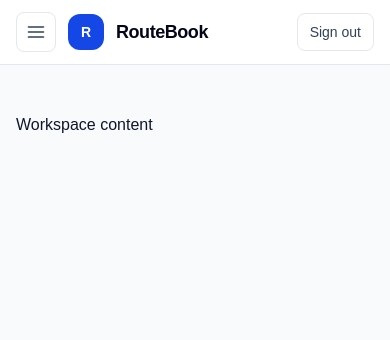
RouteBookShell › supports opening and closing the responsive navigation
Click the button named "Open navigation menu".
click(36, 32)  # box [16,12,56,52]
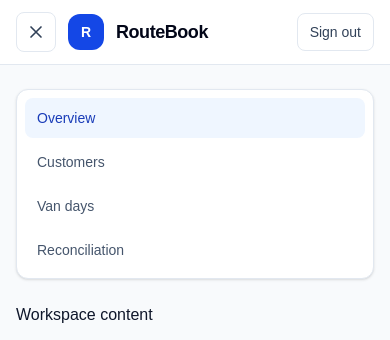
Expected: the button named "Close navigation menu" is expanded
Click the button named "Close navigation menu".
click(36, 32)  # box [16,12,56,52]
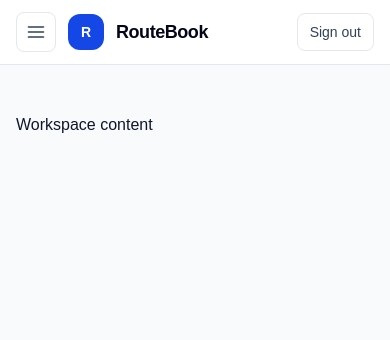
Expected: the button named "Open navigation menu" is collapsed, [16,12,56,52]
